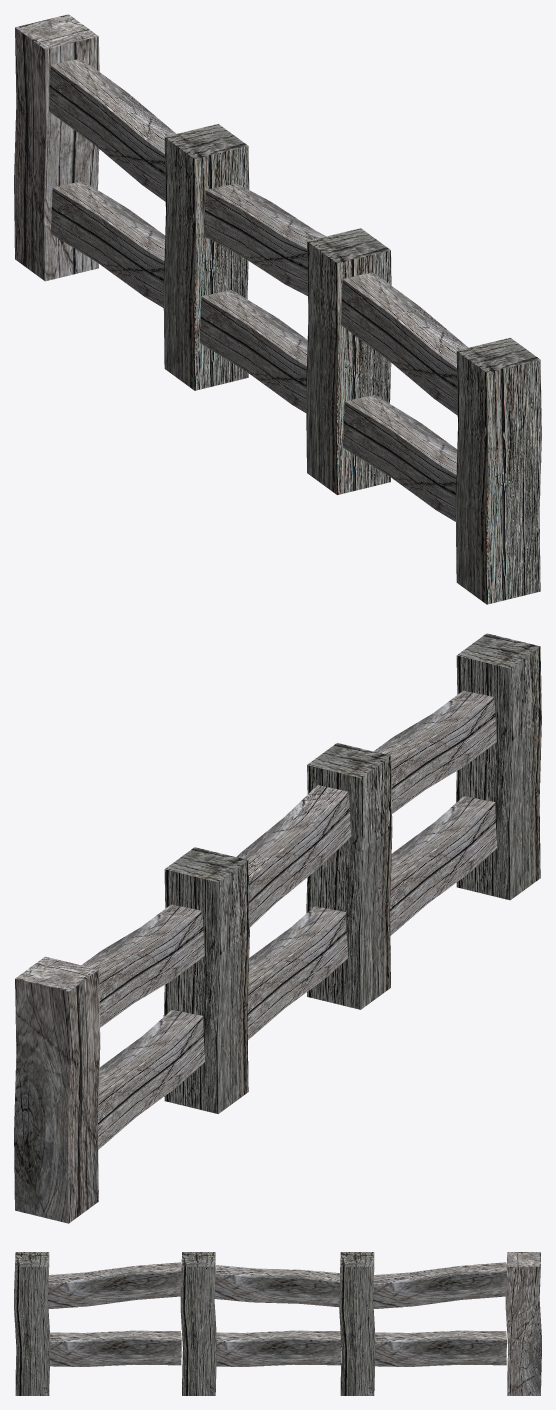
Rendered from wood.fbx.
3 views of the same model, one above another, from view 1: azimuth 30°, elevation 25°; view 2: azimuth 150°, elevation 25°; view 3: azimuth 270°, elevation 25° (orthographic). The views are drawn at different scales.
Parts seen in each view (by area): view 1: Cube, Cube.007, Cube.003, Cube.004, Cube.001, Cube.006, Cube.005, Cube.002, Cube.009, Cube.008; view 2: Cube.004, Cube, Cube.007, Cube.003, Cube.002, Cube.005, Cube.008, Cube.006, Cube.001, Cube.009; view 3: Cube.003, Cube, Cube.007, Cube.004, Cube.001, Cube.006, Cube.002, Cube.005, Cube.008, Cube.009.
Boxes of the visible parts, x1,y1,x2,y2 form: Cube: (455, 337, 541, 604); Cube.007: (163, 124, 249, 390); Cube.003: (306, 228, 391, 494); Cube.004: (14, 14, 99, 281); Cube.001: (341, 272, 468, 415); Cube.006: (49, 58, 176, 201); Cube.005: (50, 181, 165, 307); Cube.002: (343, 395, 457, 521); Cube.009: (199, 290, 307, 412); Cube.008: (204, 183, 326, 295); Cube.004: (14, 956, 100, 1223); Cube: (456, 633, 541, 900); Cube.007: (163, 847, 249, 1113); Cube.003: (306, 743, 392, 1009); Cube.002: (390, 796, 497, 935); Cube.005: (98, 1010, 205, 1149); Cube.008: (236, 785, 351, 927); Cube.006: (82, 904, 204, 1027); Cube.001: (373, 690, 496, 813); Cube.009: (247, 906, 347, 1039); Cube.003: (180, 1252, 216, 1395); Cube: (14, 1252, 50, 1395); Cube.007: (339, 1252, 375, 1395); Cube.004: (505, 1252, 541, 1395); Cube.001: (47, 1262, 181, 1309); Cube.006: (373, 1262, 506, 1309); Cube.002: (49, 1330, 181, 1366); Cube.005: (375, 1330, 506, 1366); Cube.008: (214, 1265, 339, 1307); Cube.009: (216, 1330, 341, 1366).
Size of the model in its own units: 179 by 739 by 2740.
